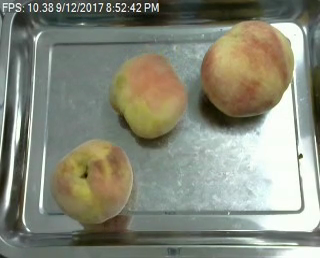Peach: (201, 19, 295, 118), (50, 138, 134, 226), (108, 53, 187, 137)
